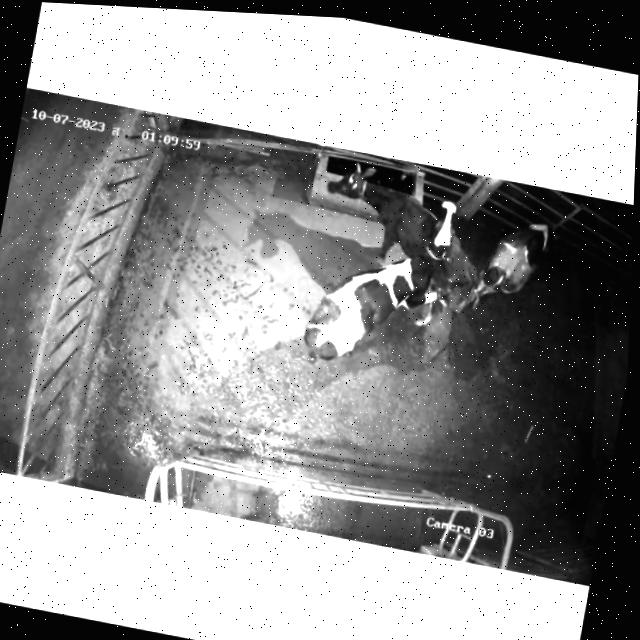propping: (398, 182, 480, 304)
